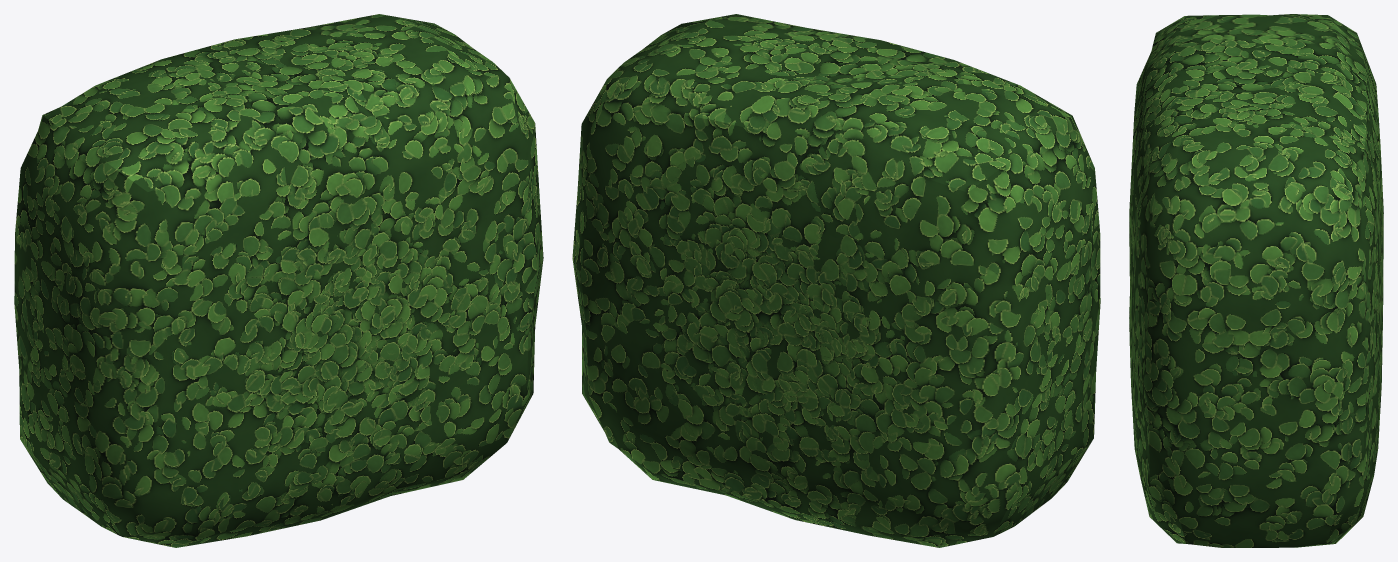
The model's file is Hedge_Block_01.fbx.
3 renders of one model, left to right at view 1: azimuth 30°, elevation 25°; view 2: azimuth 150°, elevation 25°; view 3: azimuth 270°, elevation 25°, orthographic. The views are drawn at different scales.
Visible parts, largest first — view 1: Hedge_Block_01; view 2: Hedge_Block_01; view 3: Hedge_Block_01.
Part boxes in pixels (<box>): Hedge_Block_01: <box>14,14,543,547</box>; Hedge_Block_01: <box>572,14,1100,547</box>; Hedge_Block_01: <box>1129,14,1383,547</box>.
Size of the model in its own units: 1.04 by 0.9184 by 0.5237.
Materials: 1 (1 with a texture image).
